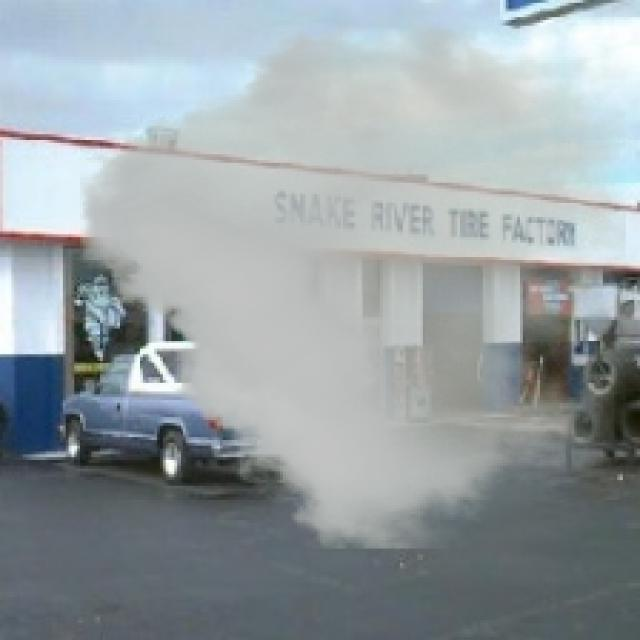Smoke: (80, 22, 626, 548)
